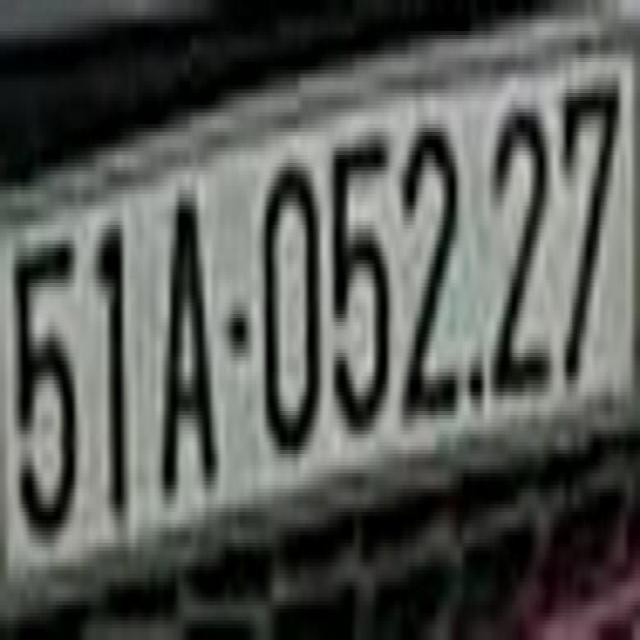0: (259, 136, 322, 462)
1: (92, 217, 130, 520)
2: (480, 74, 553, 407), (400, 112, 461, 419)
5: (15, 225, 82, 539), (330, 128, 394, 419)
7: (556, 70, 622, 399)
A: (158, 182, 219, 481)
